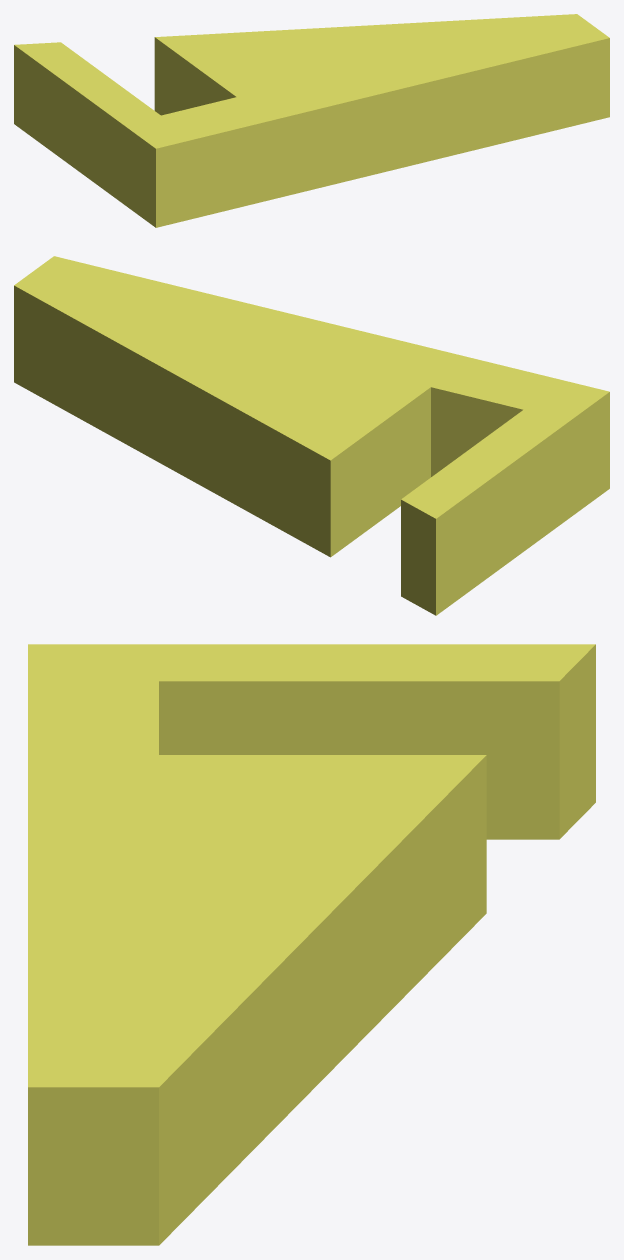
File: Pinball_Object_BHall_L.fbx
The picture shows the model from 3 angles, top to bottom: view 1: azimuth 30°, elevation 25°; view 2: azimuth 150°, elevation 25°; view 3: azimuth 270°, elevation 25°; orthographic projection. The views are drawn at different scales.
Visible parts, largest first — view 1: Pinball_Object_BHall_L.002; view 2: Pinball_Object_BHall_L.002; view 3: Pinball_Object_BHall_L.002.
Part boxes in pixels (<box>): Pinball_Object_BHall_L.002: <box>14,14,609,227</box>; Pinball_Object_BHall_L.002: <box>14,256,609,615</box>; Pinball_Object_BHall_L.002: <box>28,644,595,1245</box>.
Bounding box in the file's own units: 240 × 40 × 130.
